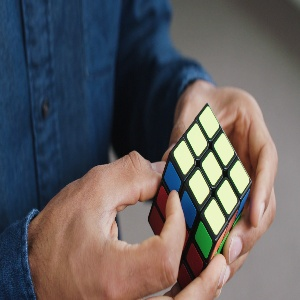cube: (147, 103, 252, 287)
